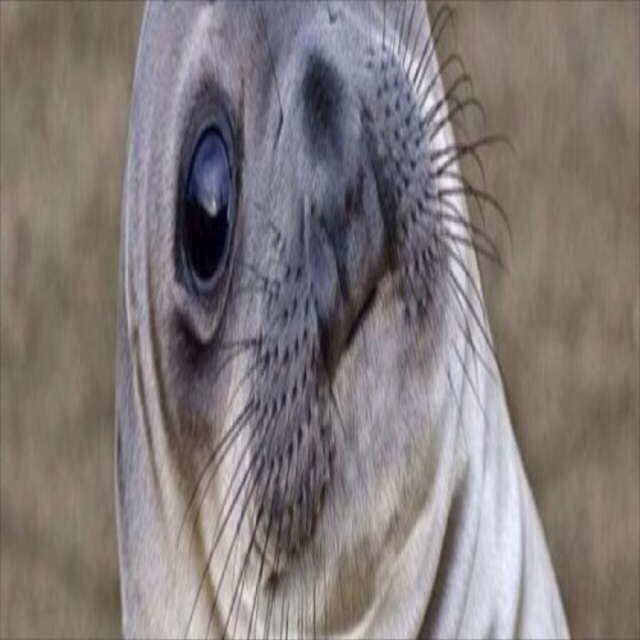Sea lion: (115, 0, 571, 638)
